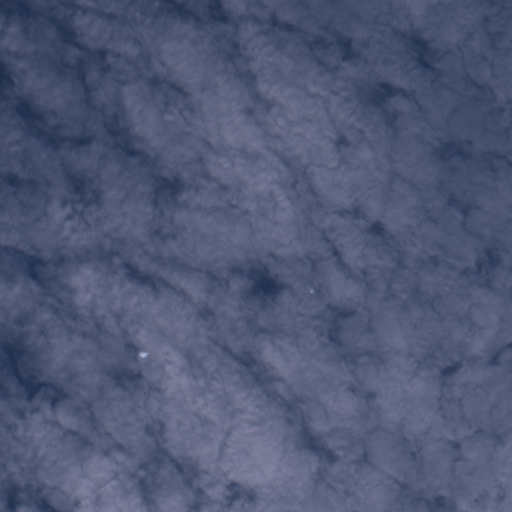Iceberg: (140, 352, 147, 356), (311, 290, 312, 292)
